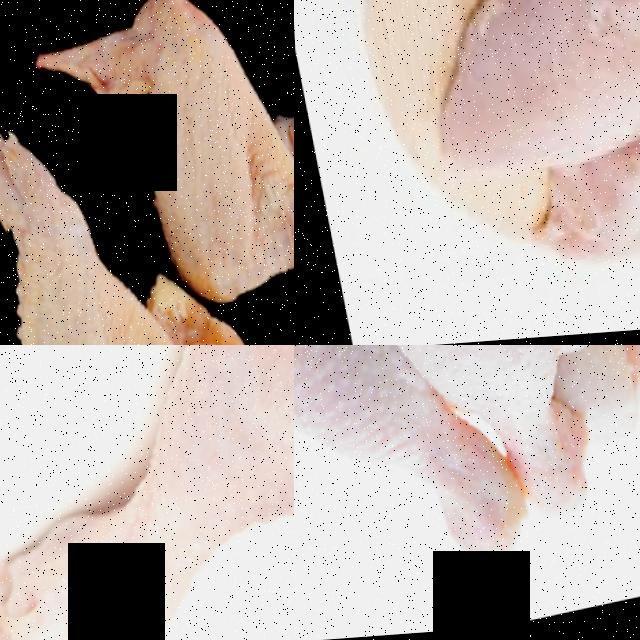chicken breast: (372, 0, 640, 176), (526, 69, 640, 301)
chicken thigh: (0, 345, 294, 640), (376, 345, 592, 534), (294, 345, 447, 543)
chicken wing: (46, 0, 294, 333), (0, 28, 186, 345)
